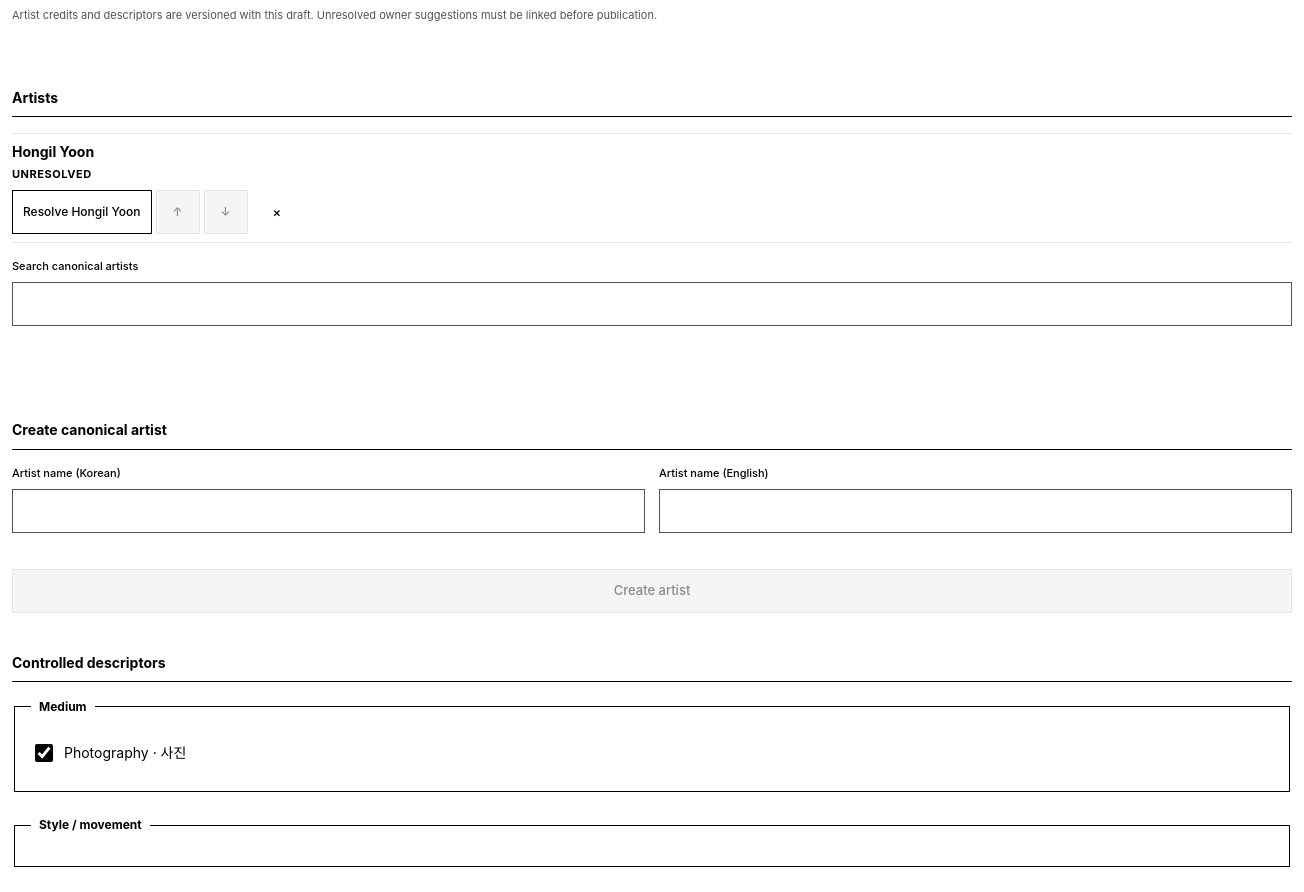
Test: ExhibitionArtMetadataEditor › cancels without changing credits, restores the creation draft, and ignores a stale search
In the field labelled "Artist name (Korean)": (328, 511) [12,489,645,533], type "이전 초안"
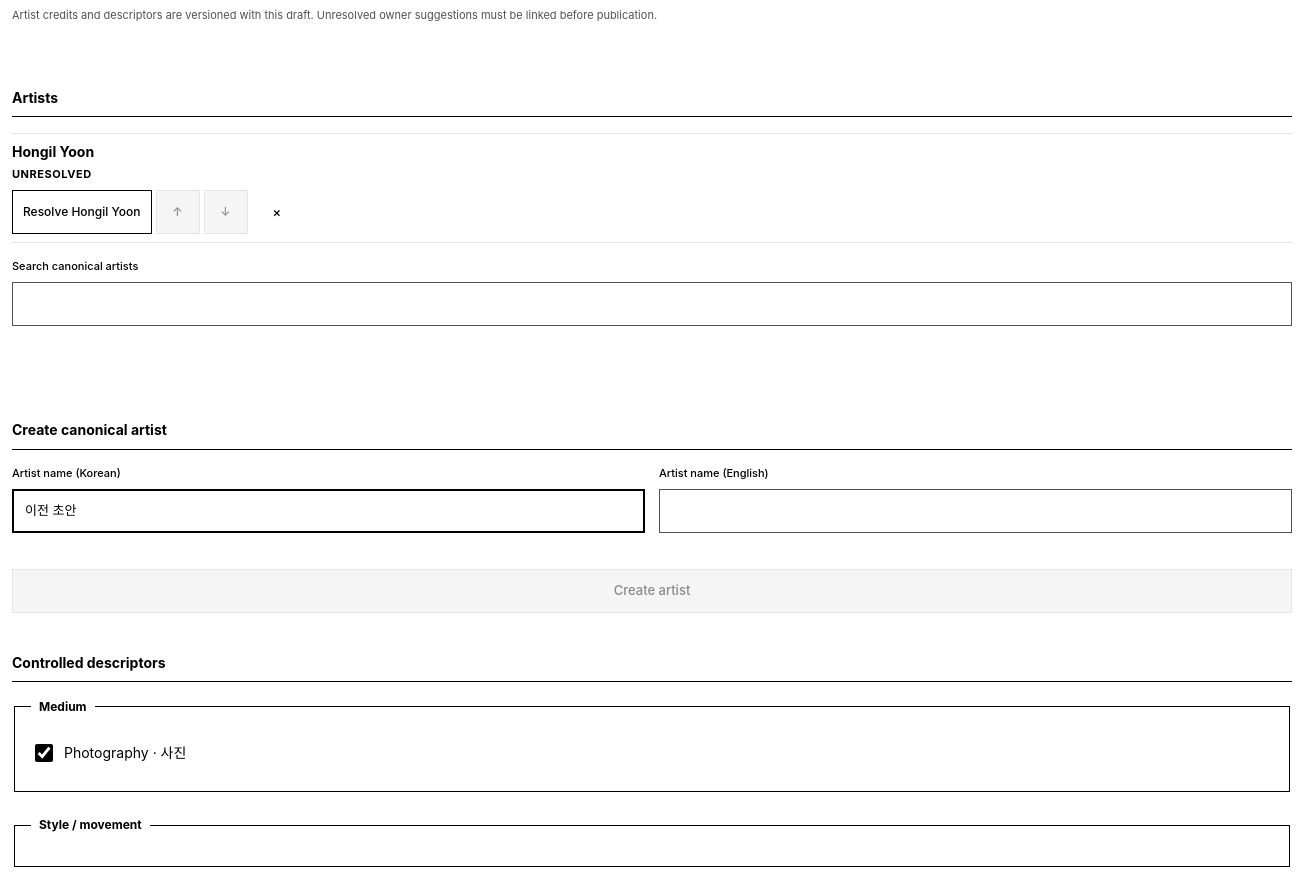
In the field labelled "Artist name (English)": (976, 511) [659,489,1292,533], type "Previous draft"
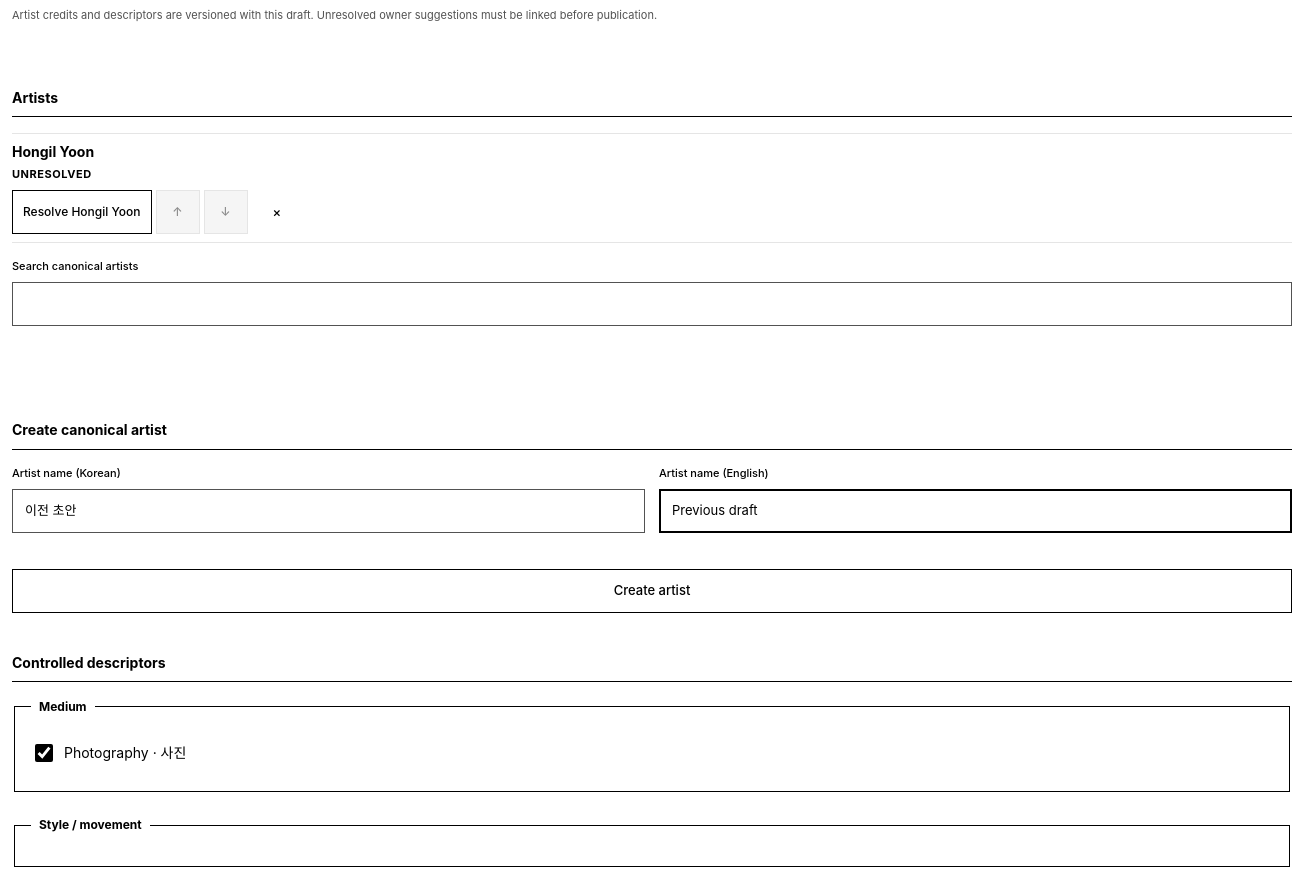
Click the button "Resolve Hongil Yoon": (82, 212) [12,190,152,234]
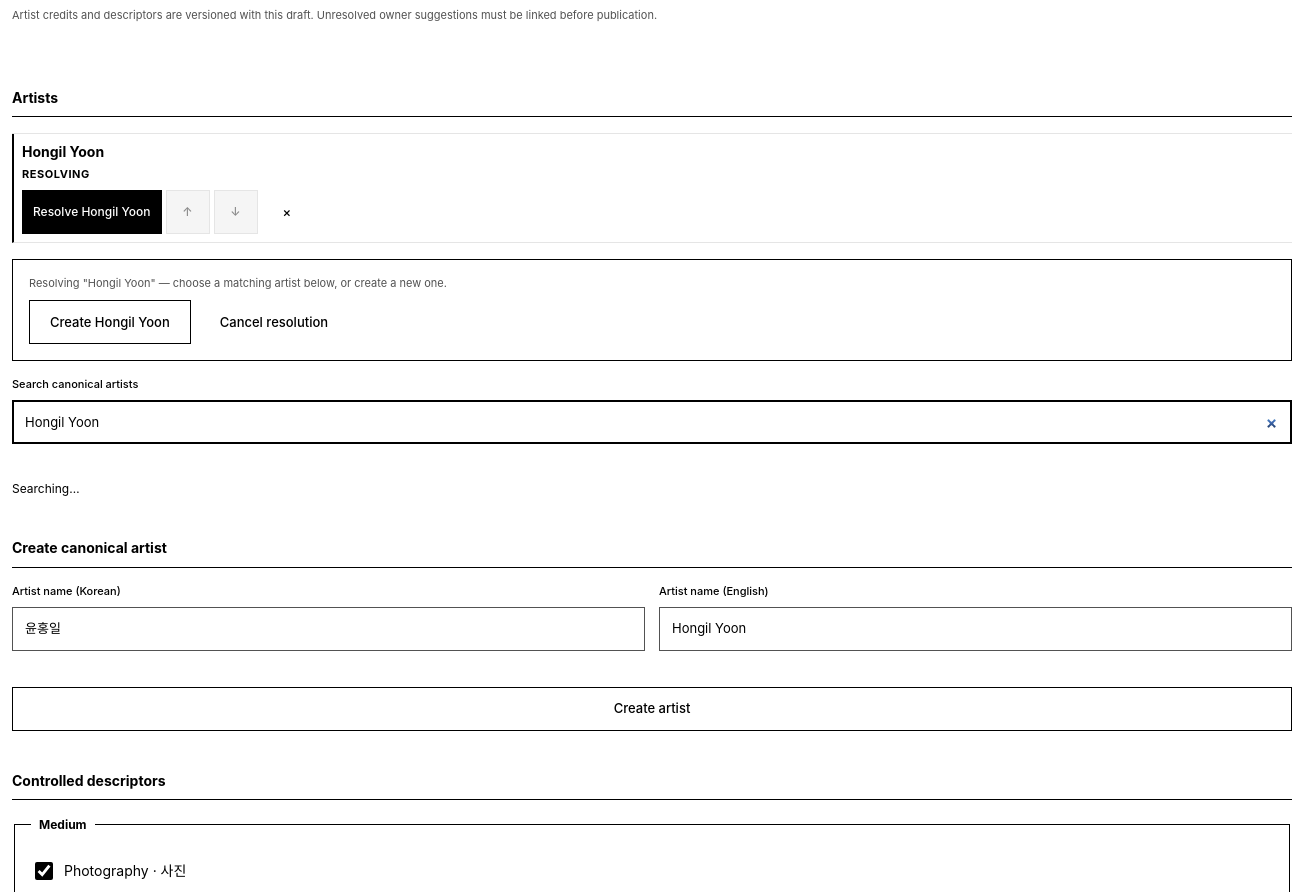
Click the button "Cancel resolution": (274, 322) [199,300,349,344]
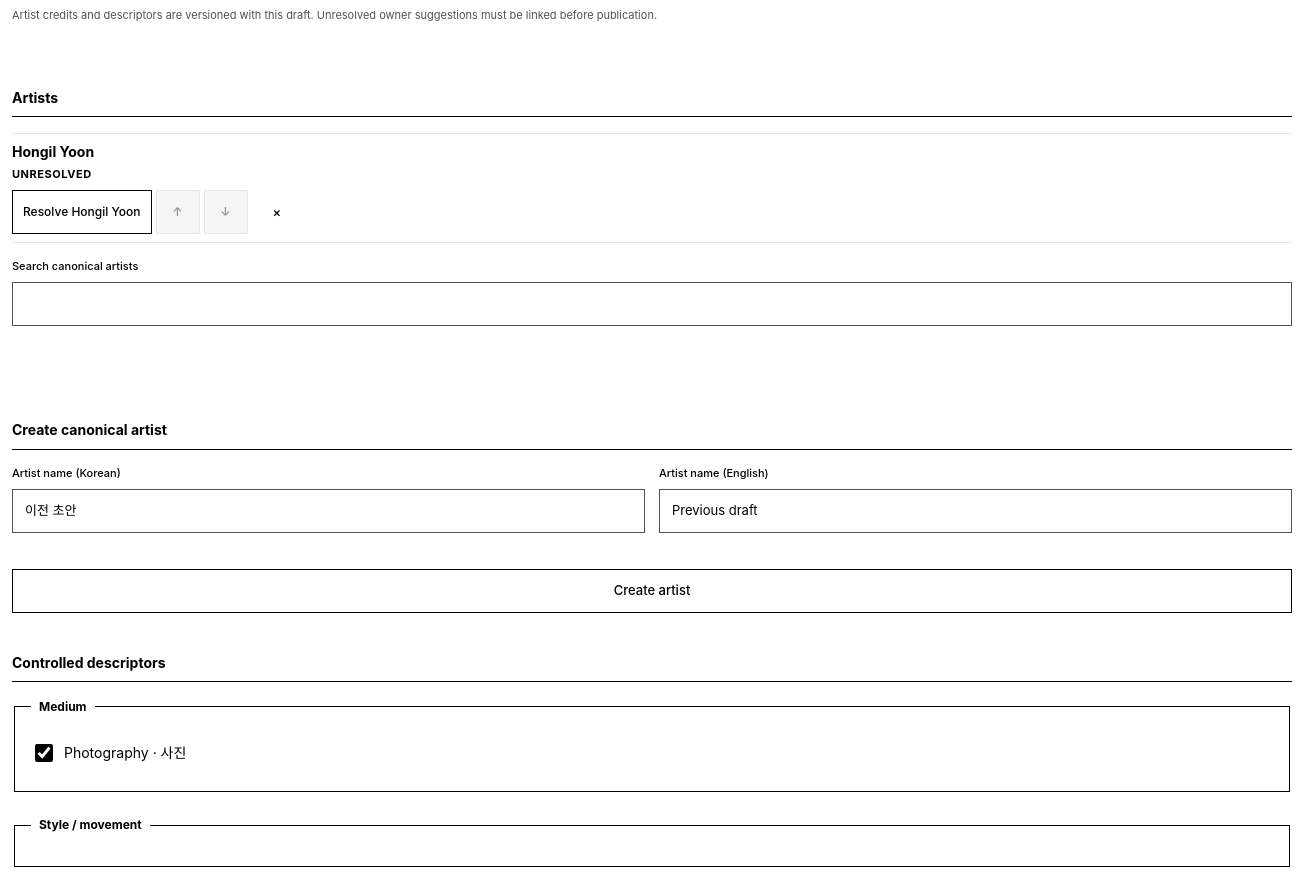
Expected: the text "UNRESOLVED" is shown, [12,166,92,180]
Expected: the search field is empty, [12,282,1292,326]
